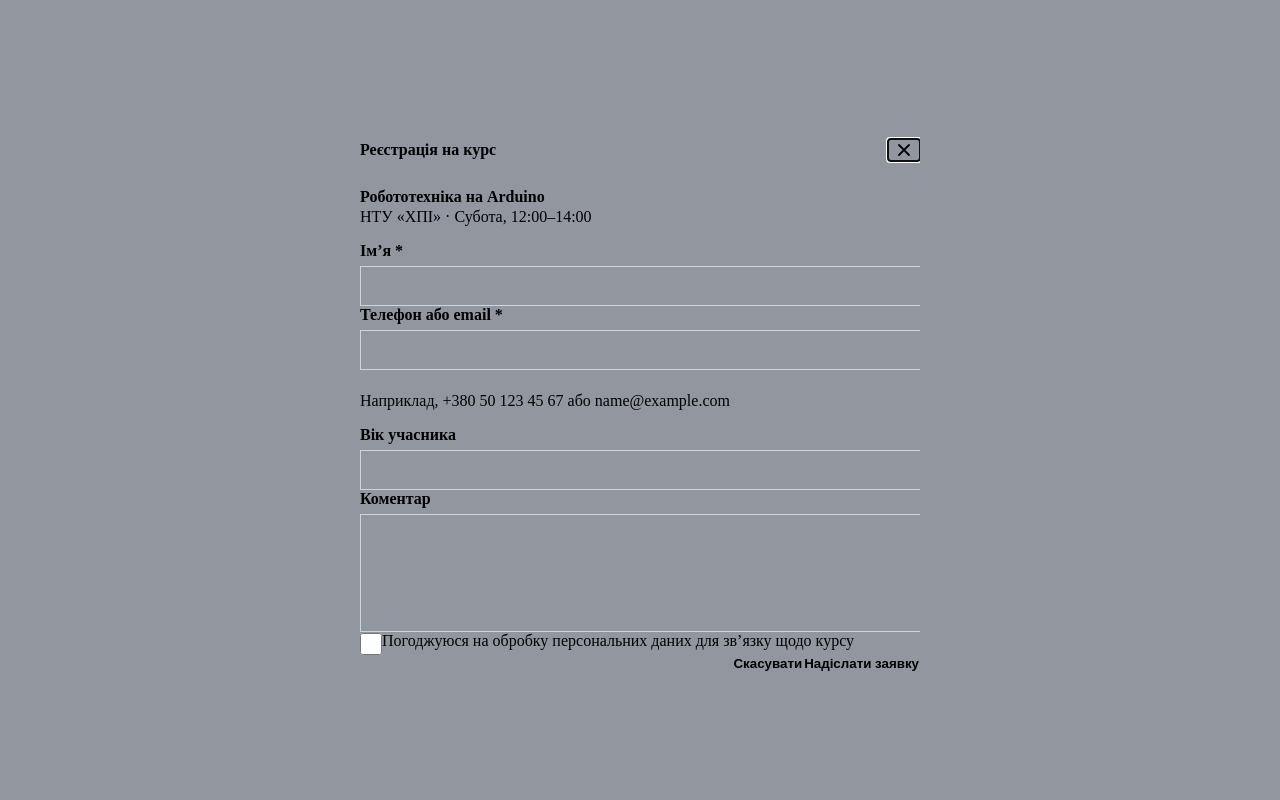
Test: RegistrationDialog › успішна реєстрація
Type "Олена" into the field labelled "Ім’я *" at (653, 286), box left=360, top=266, right=946, bottom=306
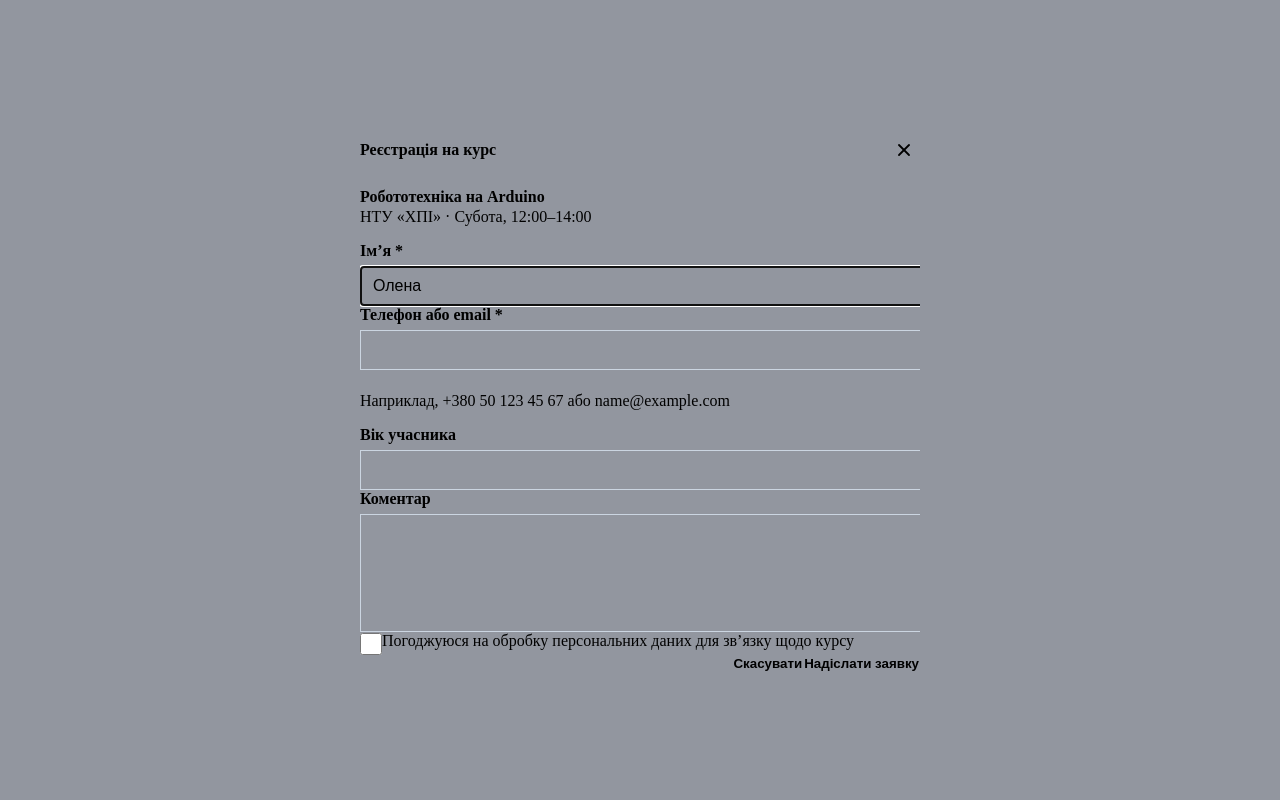
Type "+380501234567" into the field labelled "Телефон або email *" at (653, 350), box left=360, top=330, right=946, bottom=370
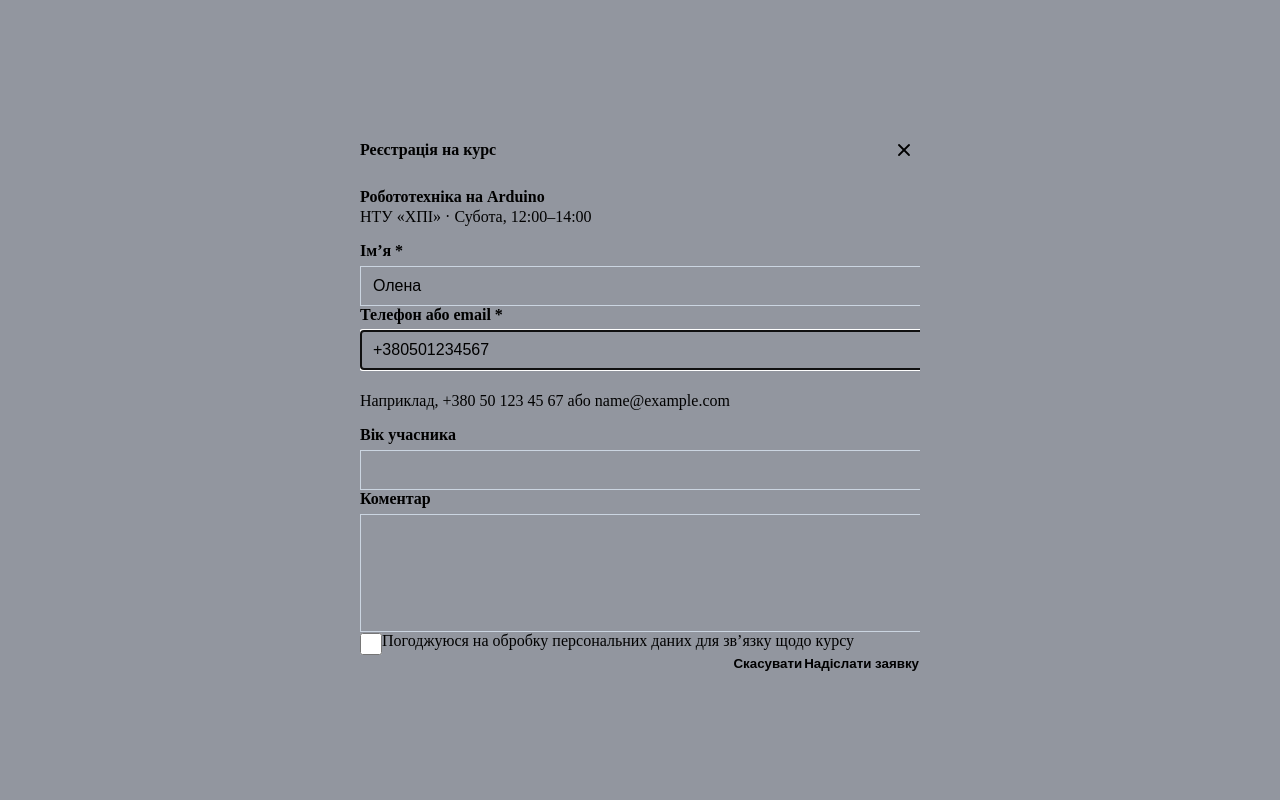
Type "11" into the number field labelled "Вік учасника" at (653, 470), box left=360, top=450, right=946, bottom=490
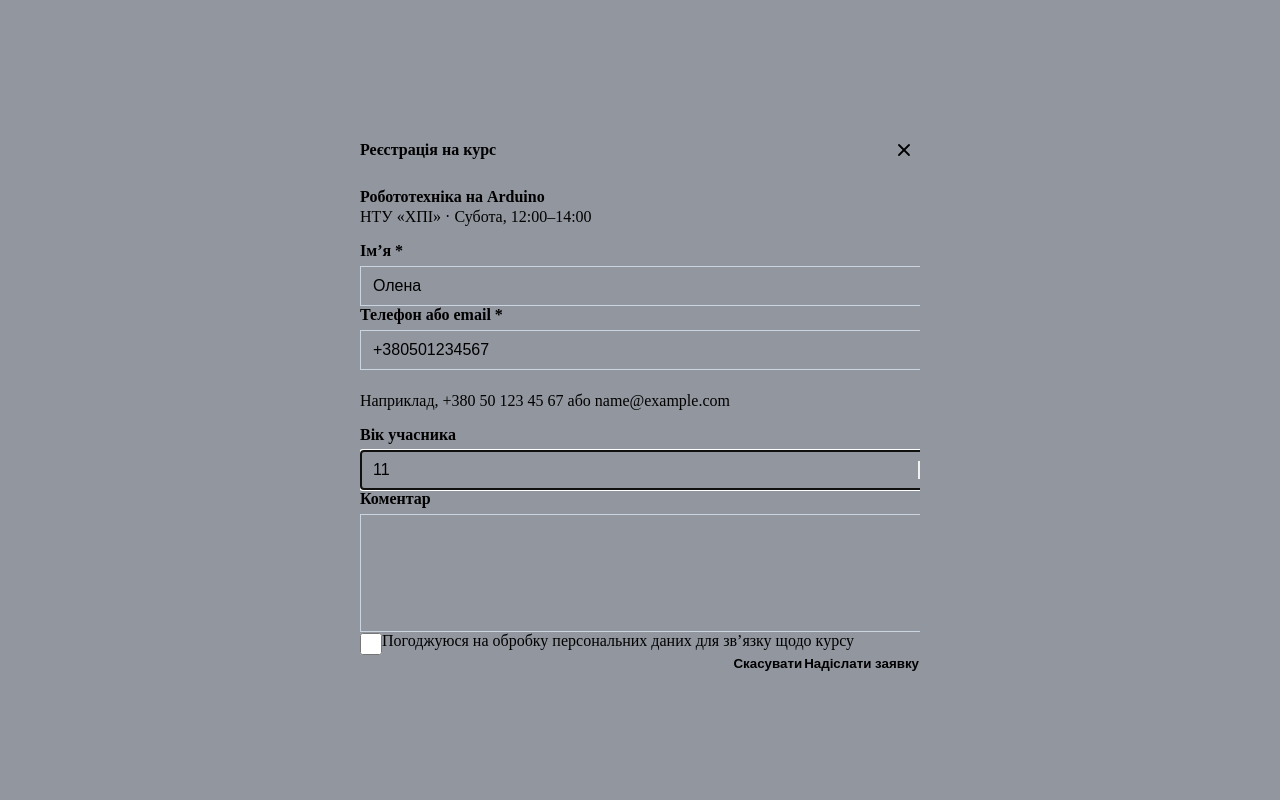
Click the checkbox at (371, 644), box left=360, top=633, right=382, bottom=655
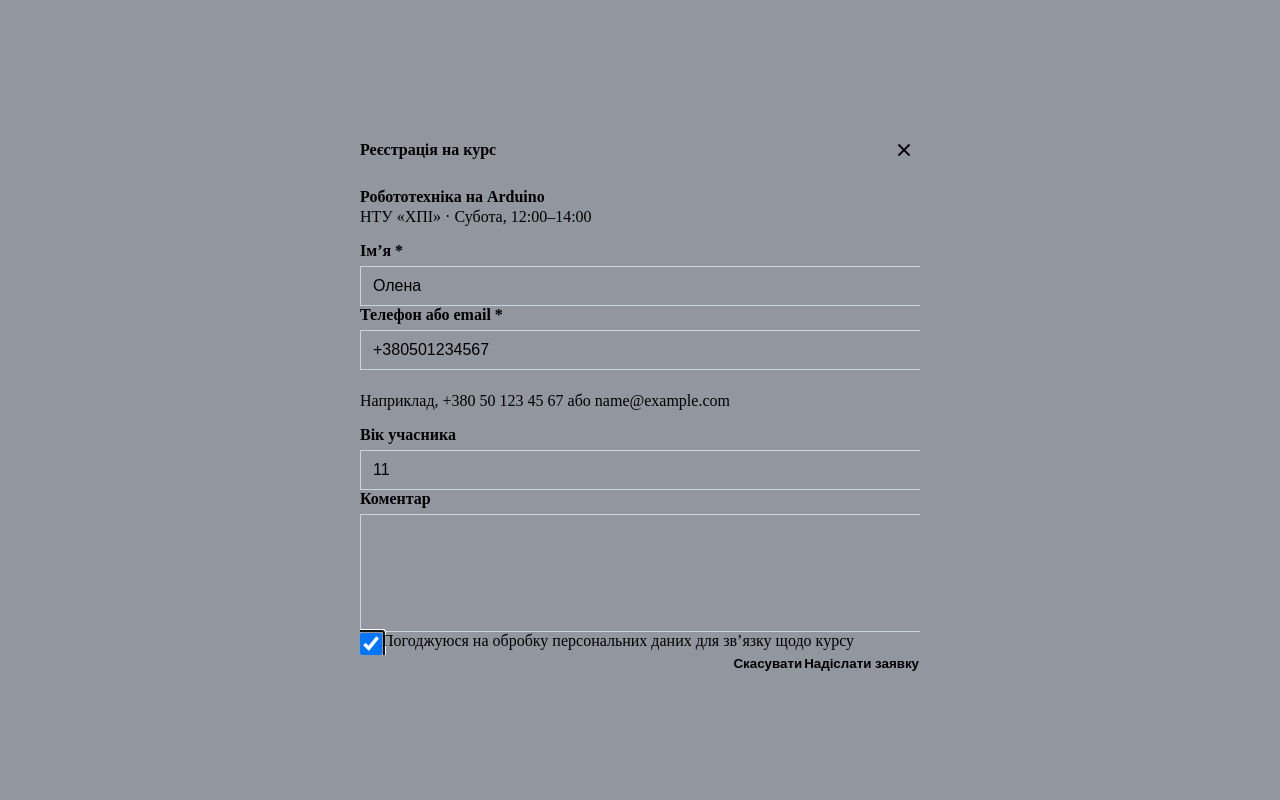
Click the button "Надіслати заявку" at (862, 664), box left=803, top=655, right=920, bottom=672
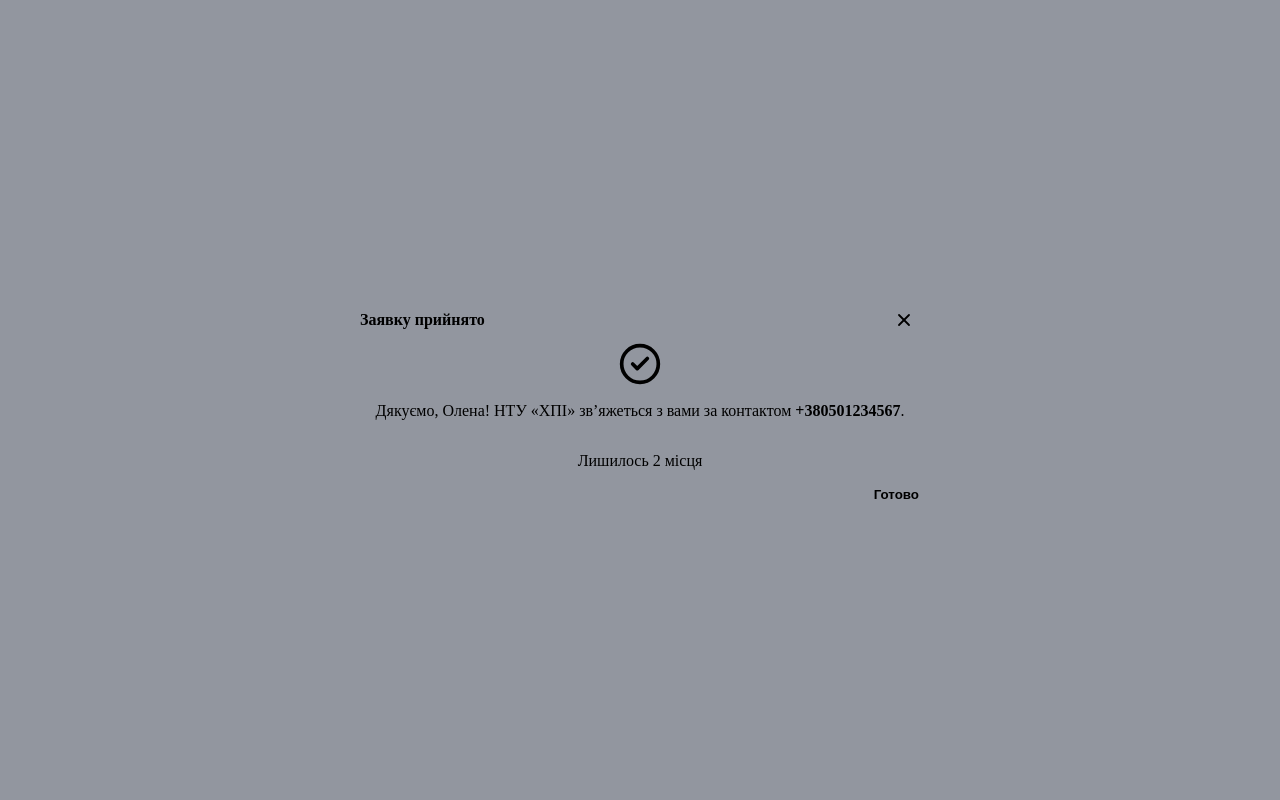
Expected: the heading "Заявку прийнято" is shown, left=360, top=310, right=485, bottom=328
Expected: the text "Лишилось 2 місця" is shown, left=578, top=452, right=702, bottom=470
